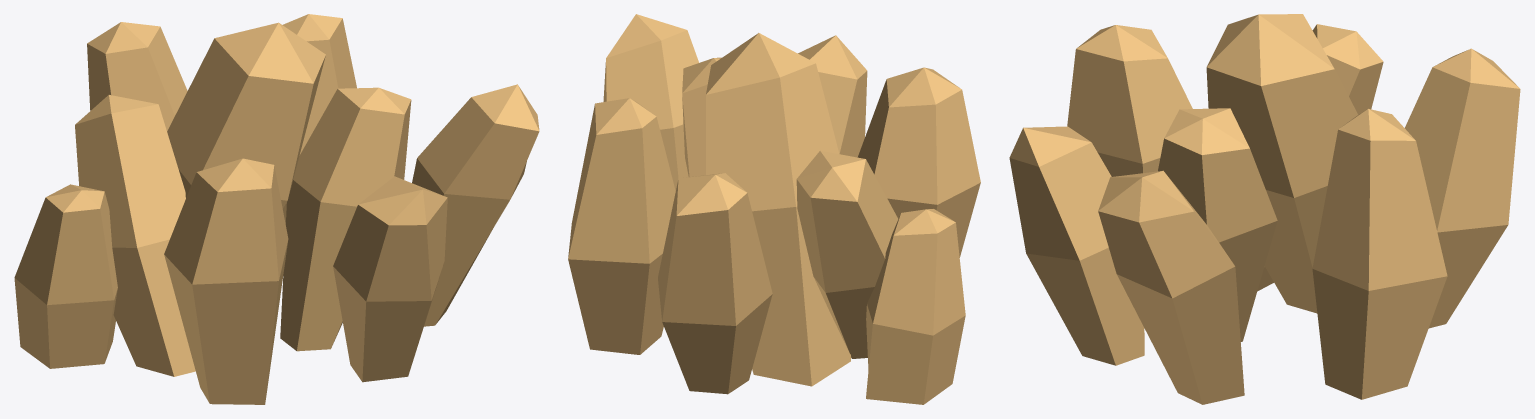
The model's file is Coral04.fbx.
3 views of the same model, side by side, from view 1: azimuth 30°, elevation 25°; view 2: azimuth 150°, elevation 25°; view 3: azimuth 270°, elevation 25° (orthographic). The views are drawn at different scales.
Visible parts, largest first — view 1: Coral04; view 2: Coral04; view 3: Coral04.
Part boxes in pixels (left/top/right/bottom): Coral04: left=14, top=14, right=539, bottom=404; Coral04: left=568, top=14, right=980, bottom=404; Coral04: left=1009, top=14, right=1520, bottom=404.
Size of the model in its own units: 1.23 by 0.8371 by 1.22.
